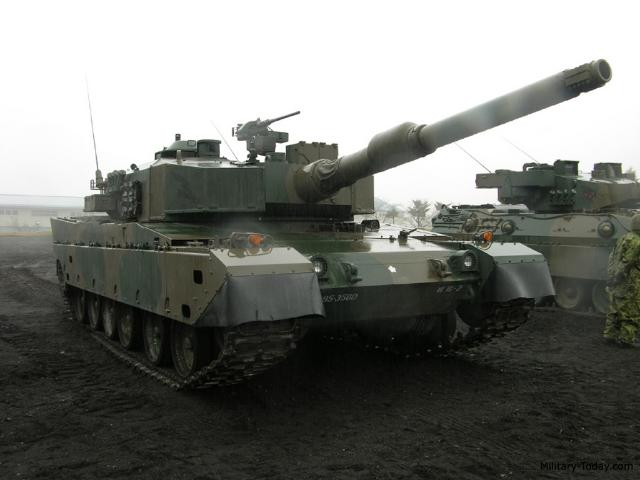other: (610, 218, 640, 344)
tank: (64, 120, 514, 360), (457, 159, 639, 301)
